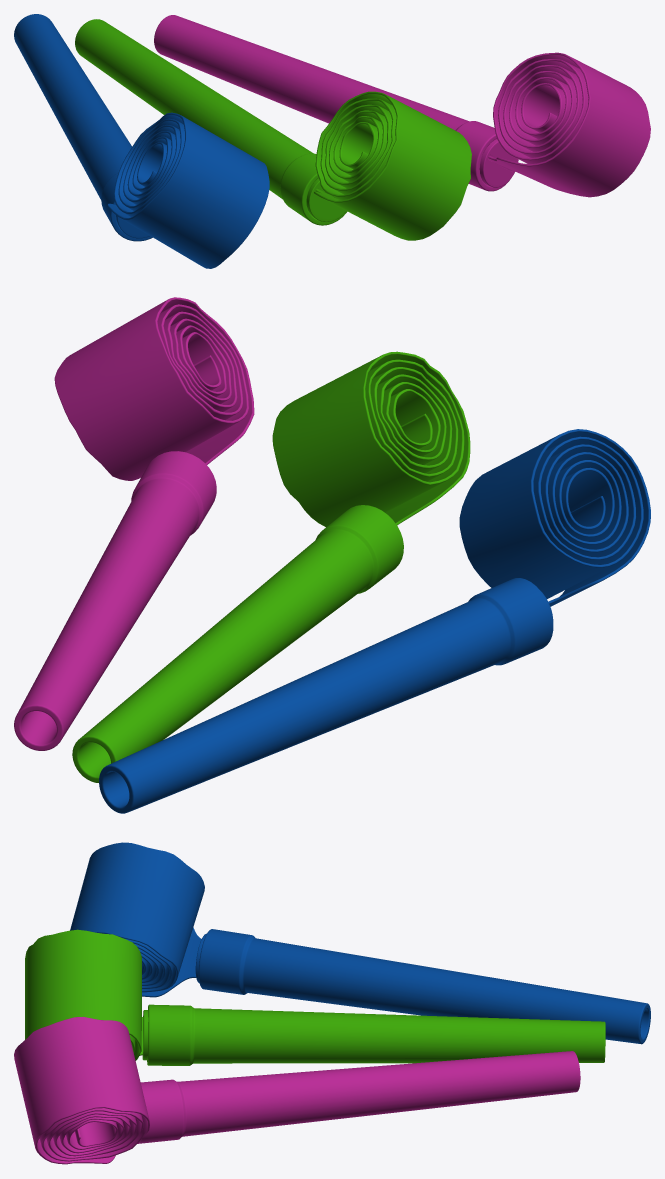
File: cgaxis_models_13_03_fbx.fbx
3 renders of one model, top to bottom at view 1: azimuth 30°, elevation 25°; view 2: azimuth 150°, elevation 25°; view 3: azimuth 270°, elevation 25°, orthographic. The views are drawn at different scales.
Parts seen in each view (by area): view 1: cgaxis_models_13_03_02, cgaxis_models_13_03_03, cgaxis_models_13_03_01; view 2: cgaxis_models_13_03_01, cgaxis_models_13_03_02, cgaxis_models_13_03_03; view 3: cgaxis_models_13_03_03, cgaxis_models_13_03_01, cgaxis_models_13_03_02.
Part boxes in pixels (x1,y1,x2,y2): cgaxis_models_13_03_02: [75, 19, 471, 240]; cgaxis_models_13_03_03: [154, 15, 650, 197]; cgaxis_models_13_03_01: [14, 14, 269, 268]; cgaxis_models_13_03_01: [99, 429, 650, 813]; cgaxis_models_13_03_02: [72, 351, 470, 782]; cgaxis_models_13_03_03: [14, 297, 254, 750]; cgaxis_models_13_03_03: [14, 1016, 580, 1164]; cgaxis_models_13_03_01: [70, 842, 650, 1044]; cgaxis_models_13_03_02: [25, 929, 605, 1065].
Bounding box in the file's own units: 4.79 × 1.4 × 5.48.
